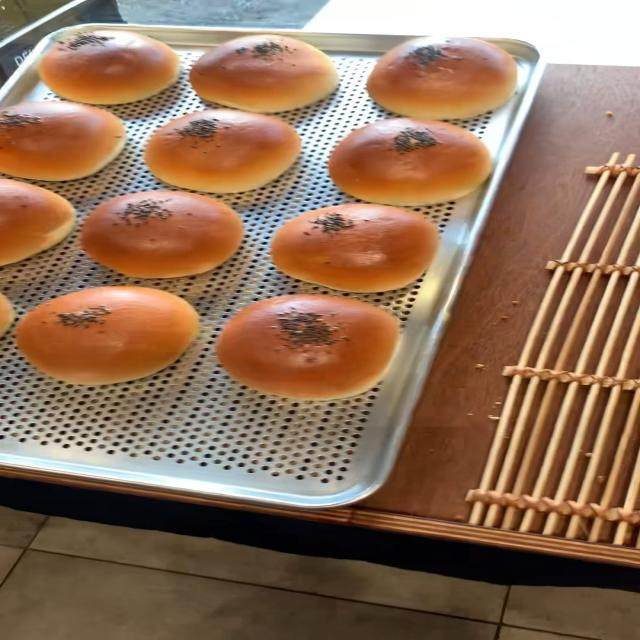bread: (217, 293, 396, 401), (3, 284, 194, 385), (264, 203, 443, 292), (324, 116, 492, 210), (75, 189, 246, 281), (146, 104, 303, 197), (34, 21, 181, 104)
